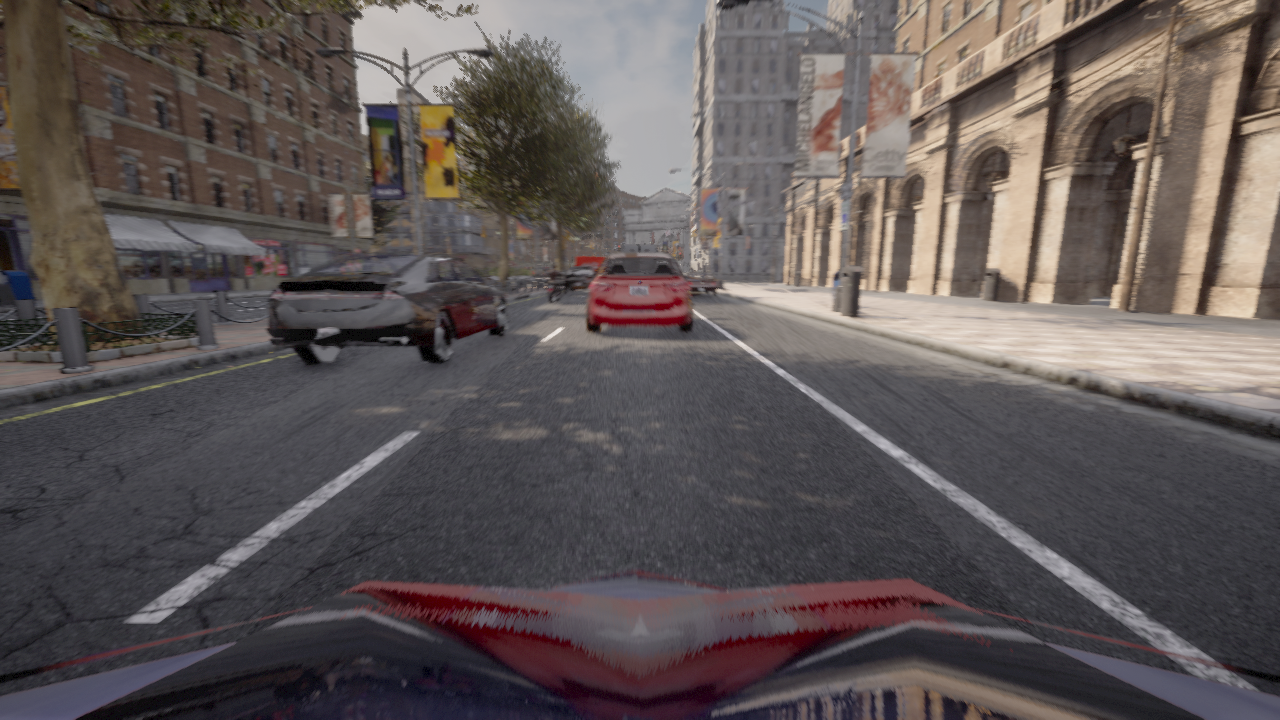cyclist: (0, 569, 1279, 719), (266, 252, 509, 365), (586, 252, 693, 332), (563, 267, 596, 293), (684, 272, 718, 295), (546, 272, 564, 303), (575, 256, 605, 272), (622, 245, 656, 251)
